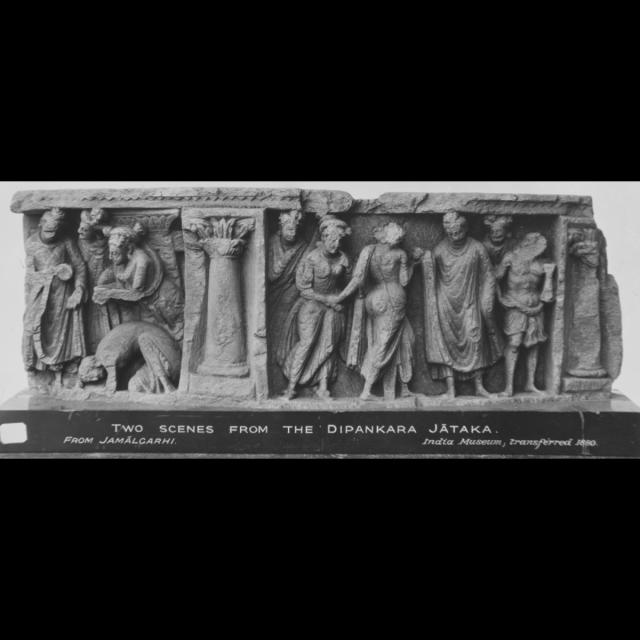buddha-standing: (421, 211, 501, 397), (23, 209, 86, 382)
